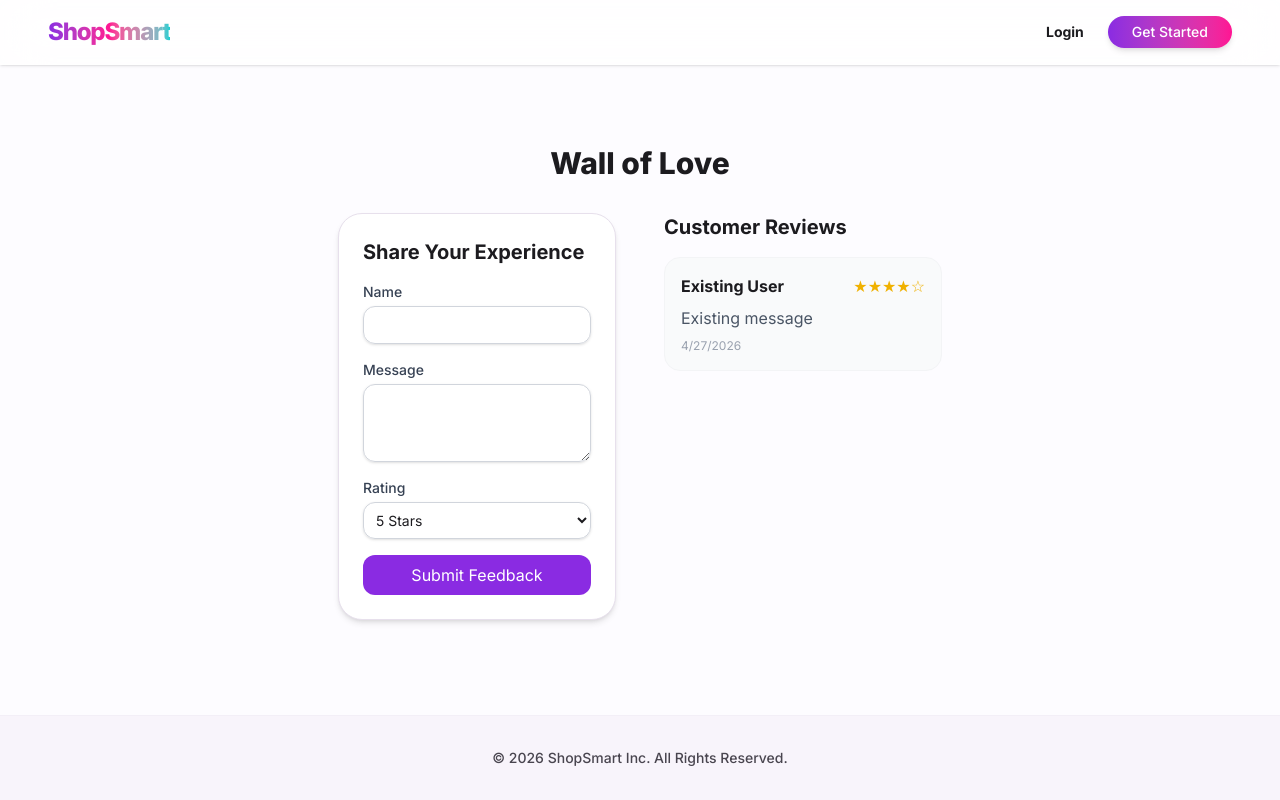
Test case: Feedback Page Integration › fetches and displays feedback on mount, and updates list on new submission
The image size is (1280, 800).
expect the text "Existing User" is shown: met, box [681, 274, 784, 298]
expect the text "Existing message" is shown: met, box [681, 308, 813, 328]
// Perform submission
Type "New User" into the field labelled "Name".
click(477, 325); type("New User")  # box [363, 306, 591, 344]
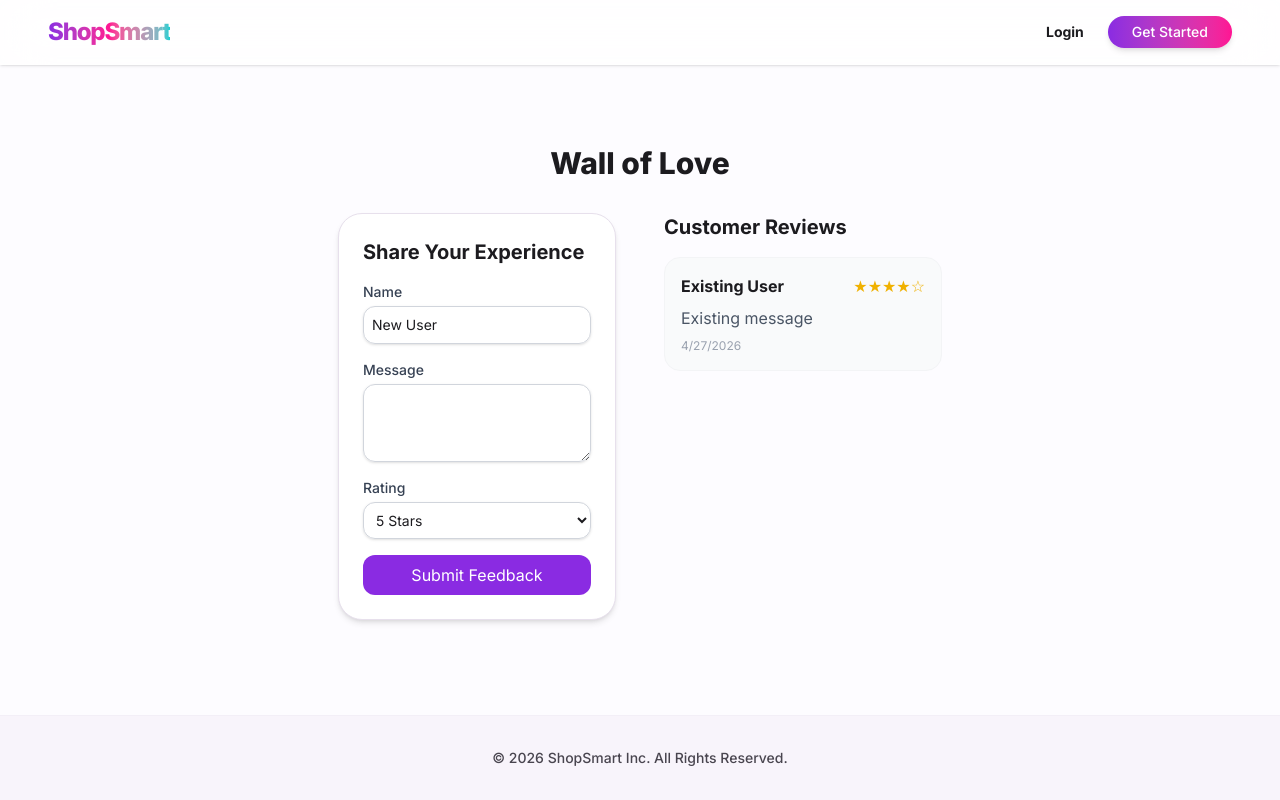
Type "New message" into the text box labelled "Message".
click(477, 423); type("New message")  # box [363, 384, 591, 462]
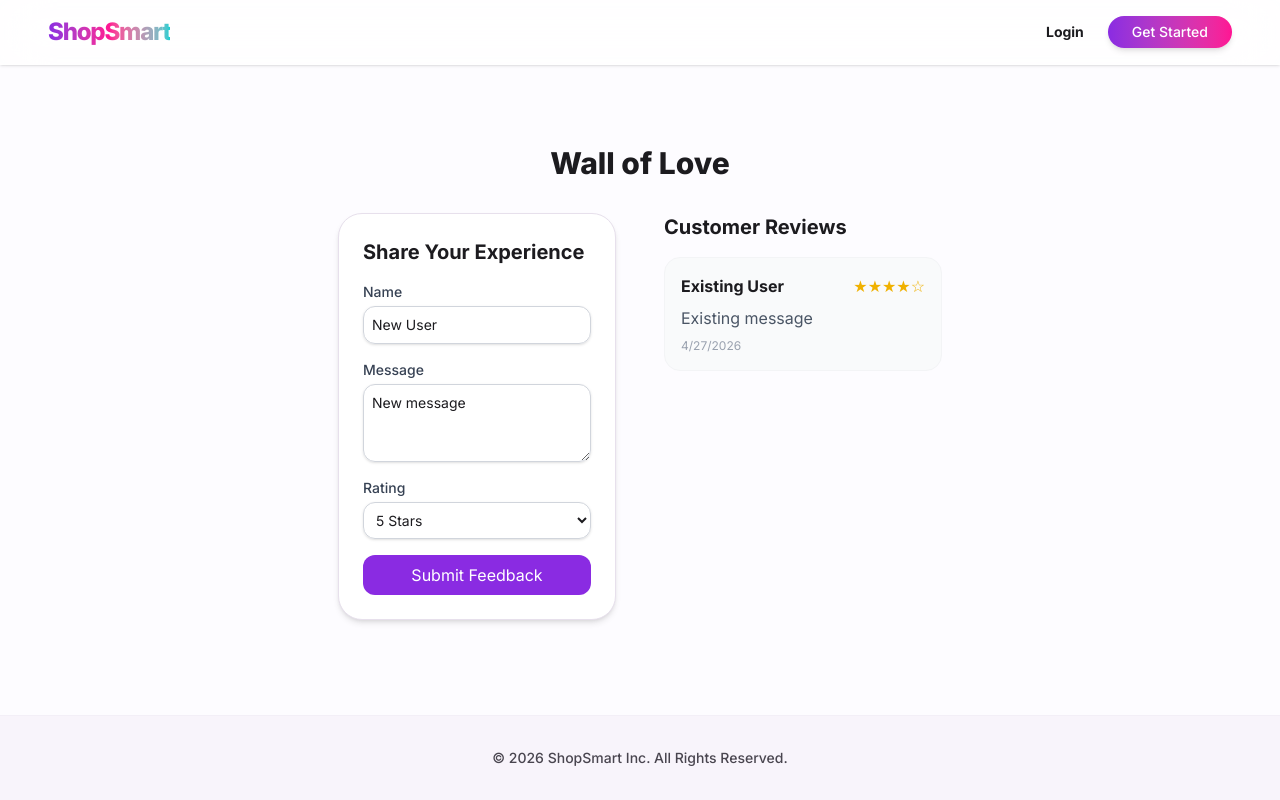
Click the button "Submit Feedback".
click(477, 575)  # box [363, 555, 591, 595]
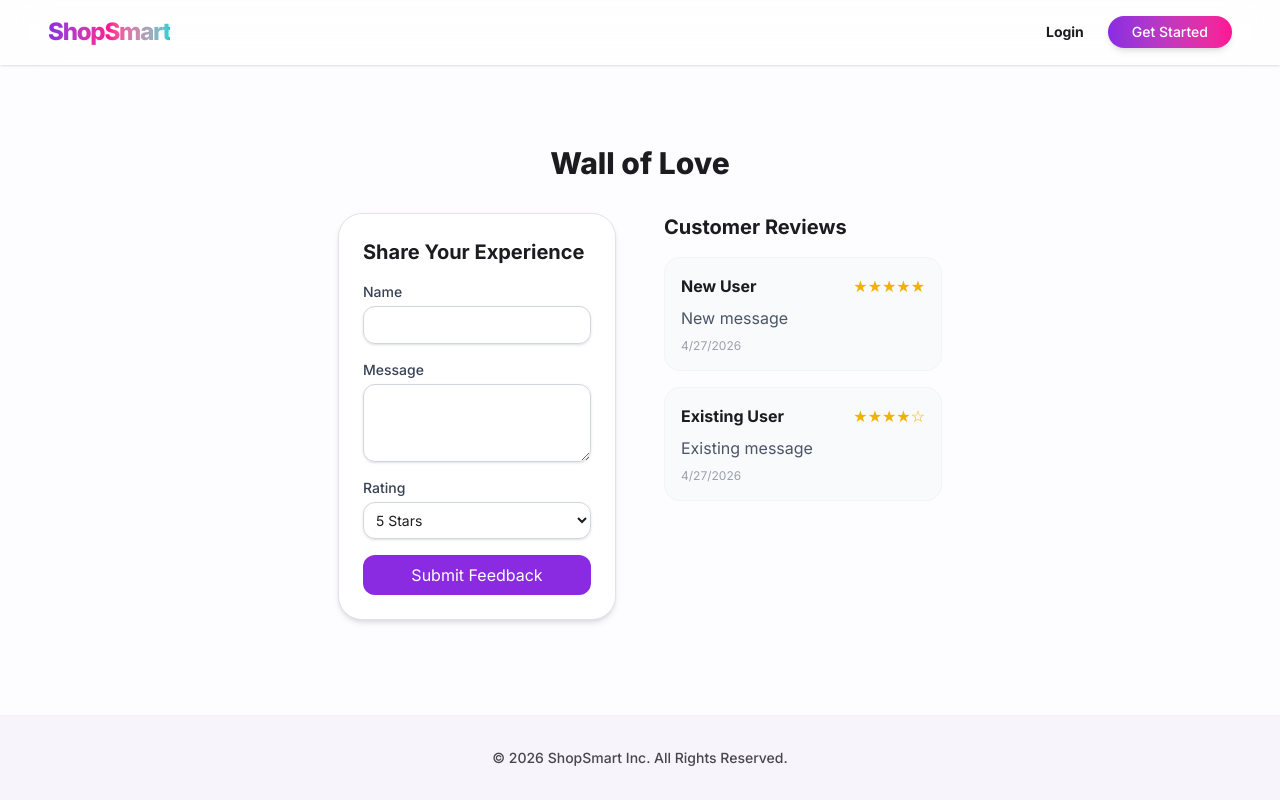
expect the text "Existing User" is shown: met, box [681, 404, 784, 428]
expect the text "New User" is shown: met, box [681, 274, 757, 298]
expect the text "New message" is shown: met, box [681, 308, 788, 328]
